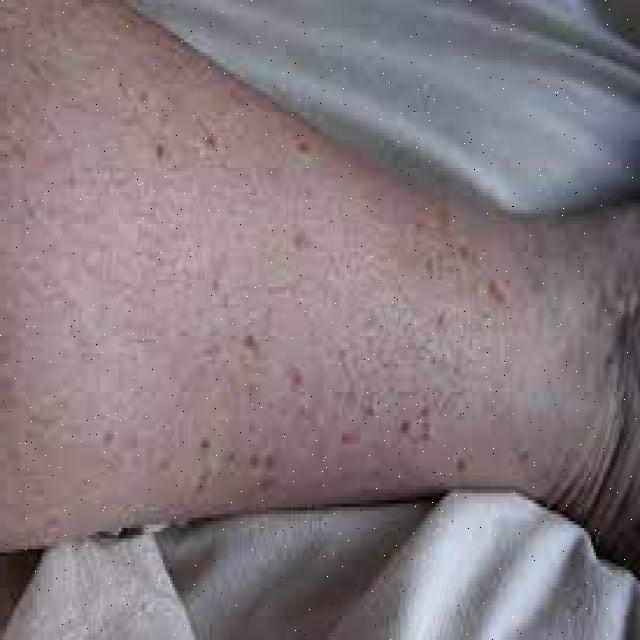kan emici bocekler: (330, 424, 364, 460)
